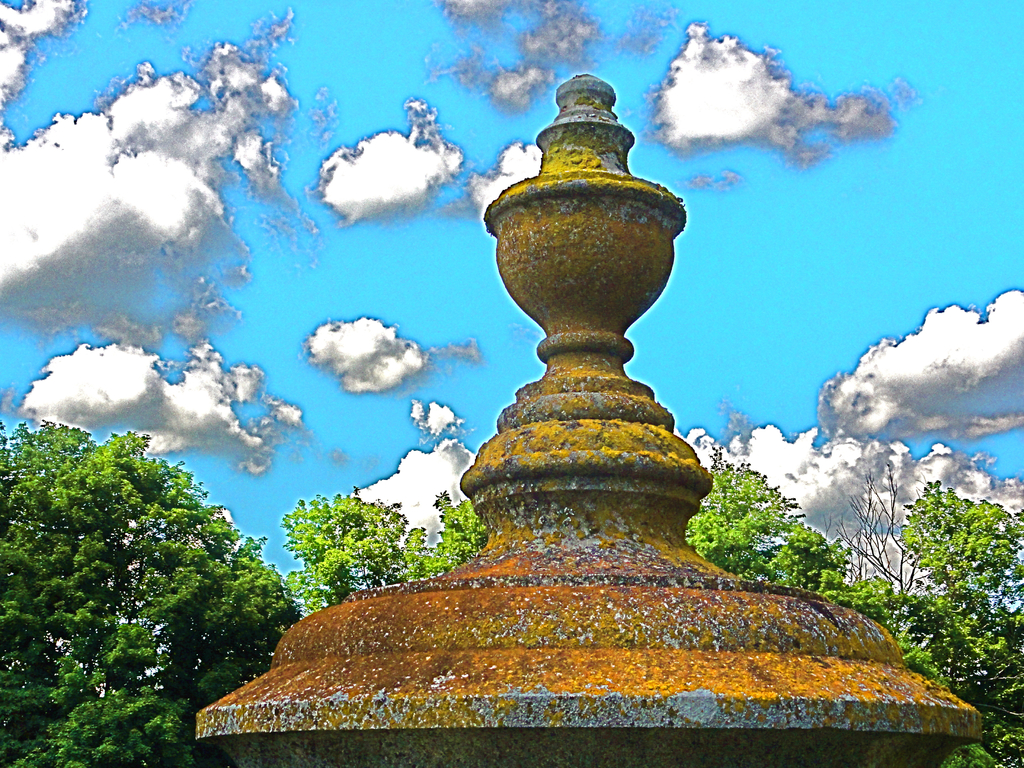Tree: (0, 419, 488, 768), (683, 442, 1024, 768)
